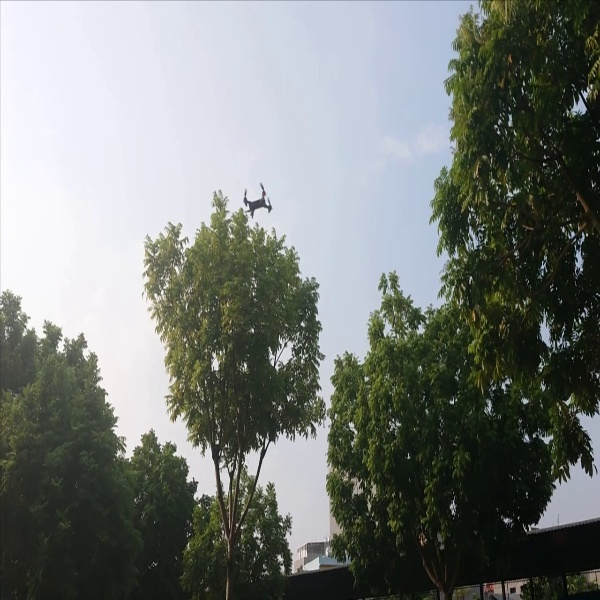drone: (237, 182, 278, 222)
